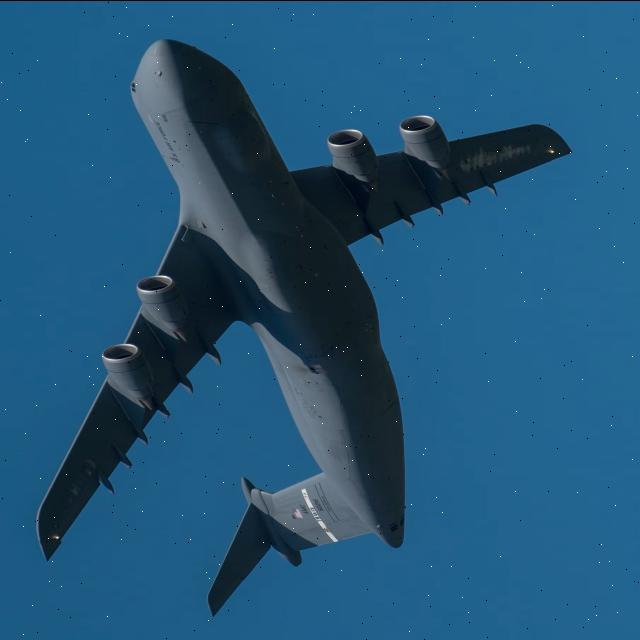C5: (27, 0, 593, 626)
